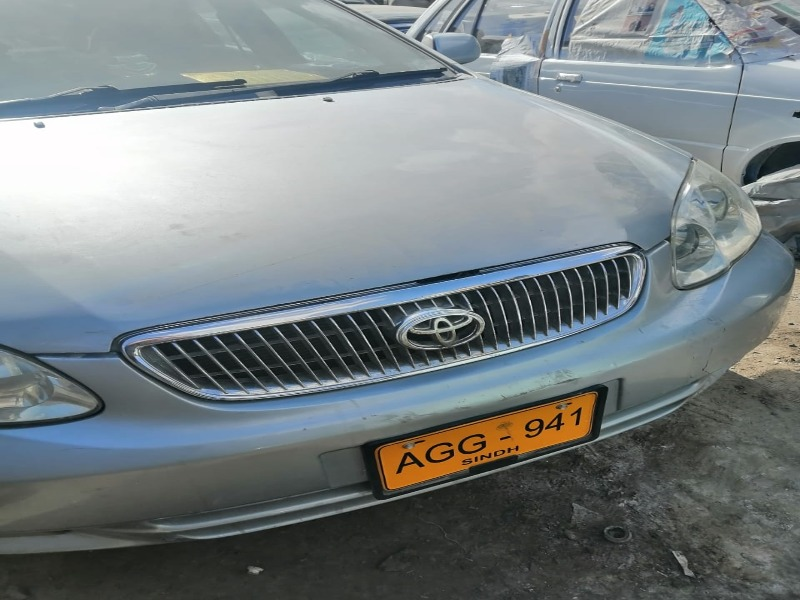License Plate: (367, 388, 606, 494)
